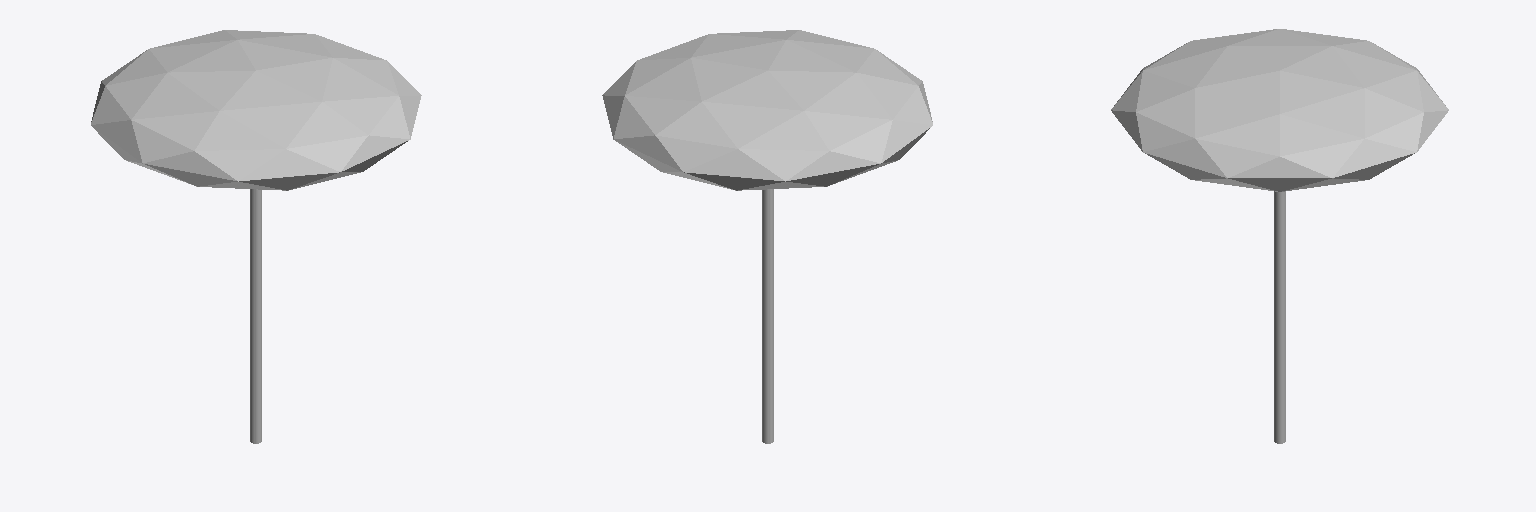
File: nuclearbool(LLy).obj
3 renders of one model, left to right at view 1: azimuth 30°, elevation 25°; view 2: azimuth 150°, elevation 25°; view 3: azimuth 270°, elevation 25°, orthographic.
Parts seen in each view (by area): view 1: Cylinder; view 2: Cylinder; view 3: Cylinder.
Part boxes in pixels (left/top/right/bottom): Cylinder: left=91, top=30, right=421, bottom=443; Cylinder: left=602, top=30, right=932, bottom=443; Cylinder: left=1111, top=29, right=1448, bottom=443.
Bounding box in the file's own units: 757 × 962 × 796.